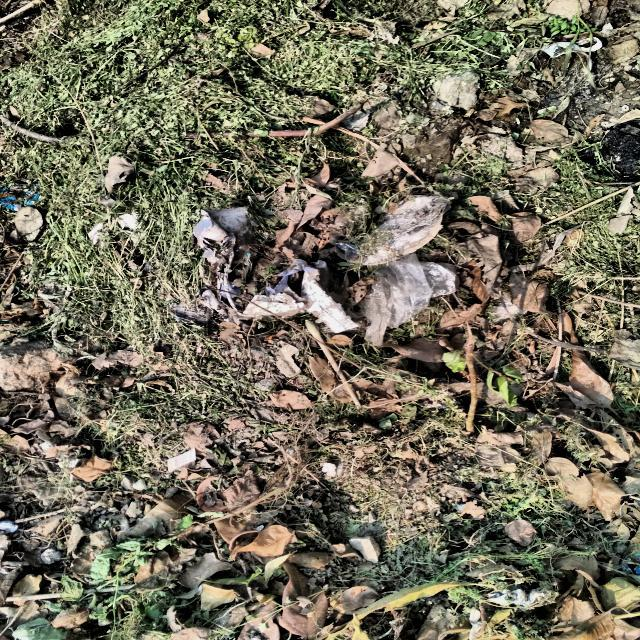anorganik: (362, 253, 461, 346)
